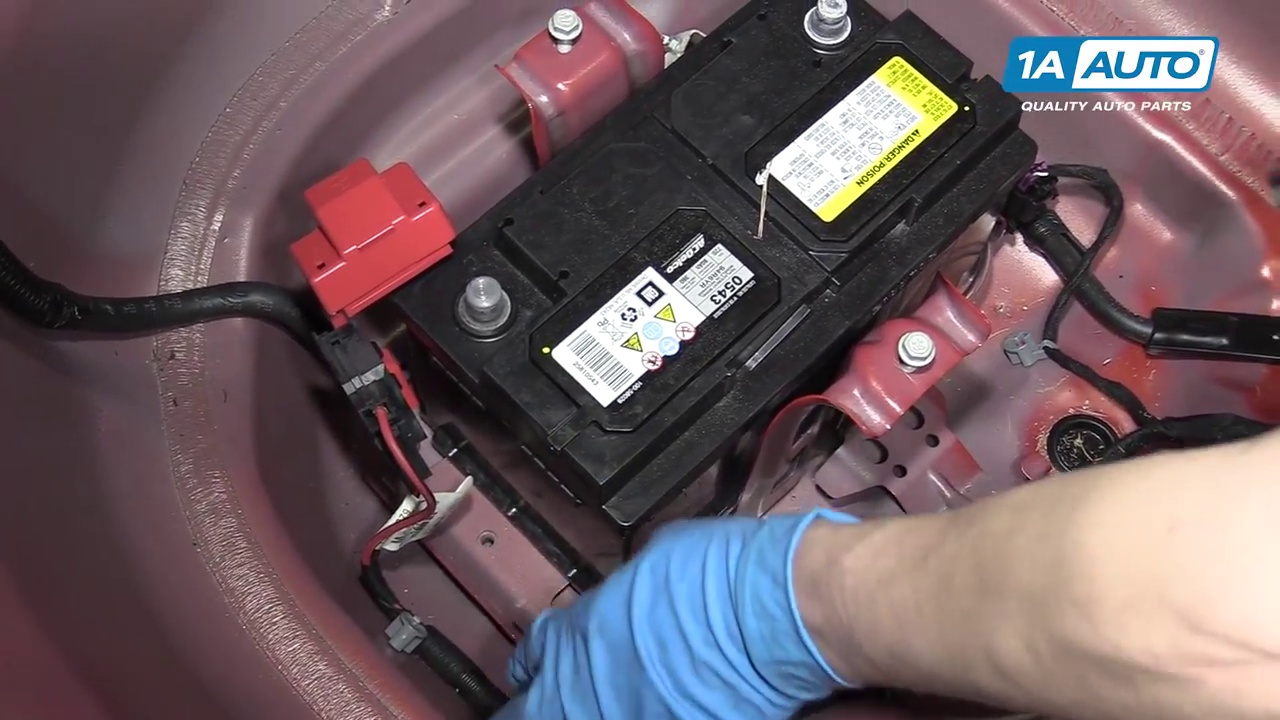battery: (399, 1, 1026, 495)
neg_disconnected: (761, 2, 873, 63)
pos_disconnected: (257, 148, 525, 359)
